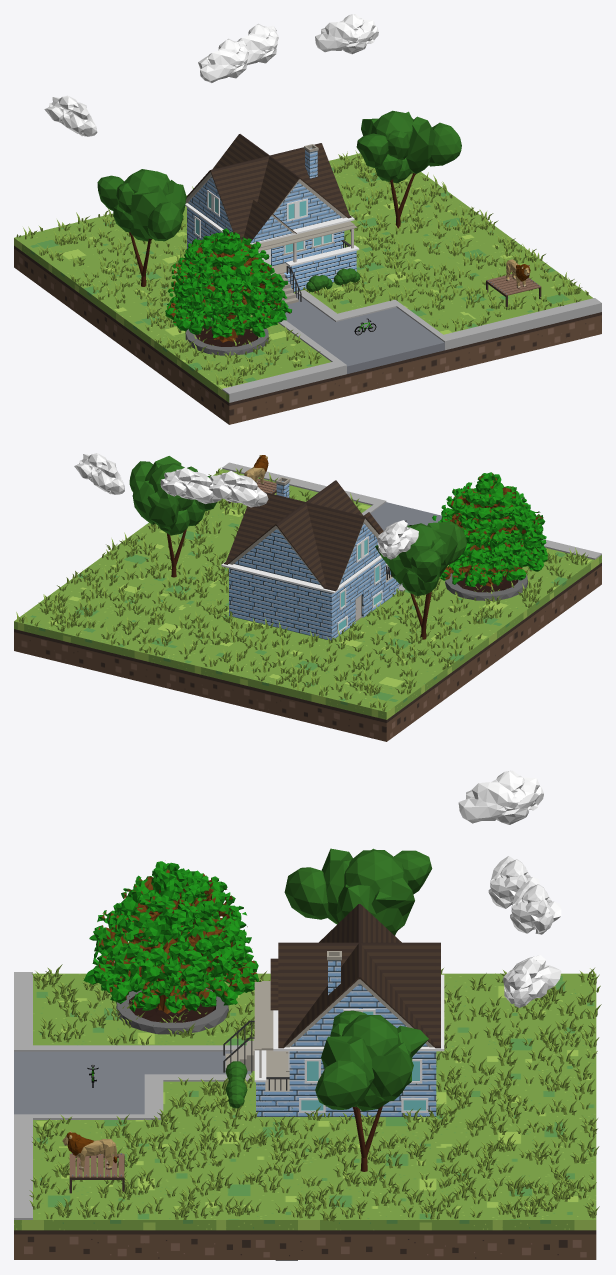
3 renders of one model, top to bottom at view 1: azimuth 30°, elevation 25°; view 2: azimuth 150°, elevation 25°; view 3: azimuth 270°, elevation 25°, orthographic. The views are drawn at different scales.
Visible parts, largest first — view 1: Cube.006, Cube.547, Circle.012_Grass_0.192, OBJRANDOM_CEIBA, Cube.007, tree, tree.001, Cube.009; view 2: Cube.006, Cube.547, Circle.012_Grass_0.192, OBJRANDOM_CEIBA, Cube.007, tree.001, tree, ANIMAL_LEON; view 3: Cube.006, Circle.012_Grass_0.192, Cube.547, OBJRANDOM_CEIBA, tree, Cube.007, tree.001, Cube.009, ANIMAL_LEON.
Part boxes in pixels (bbox=[...]): Cube.006: bbox=[14, 153, 601, 424]; Cube.547: bbox=[185, 134, 359, 304]; Circle.012_Grass_0.192: bbox=[16, 150, 588, 386]; OBJRANDOM_CEIBA: bbox=[165, 228, 291, 355]; Cube.007: bbox=[44, 14, 378, 136]; tree: bbox=[356, 110, 461, 228]; tree.001: bbox=[97, 169, 186, 286]; Cube.009: bbox=[486, 274, 541, 306]; Cube.006: bbox=[14, 462, 601, 741]; Cube.547: bbox=[221, 477, 398, 640]; Circle.012_Grass_0.192: bbox=[16, 468, 588, 711]; OBJRANDOM_CEIBA: bbox=[432, 472, 547, 600]; Cube.007: bbox=[74, 453, 418, 559]; tree.001: bbox=[375, 521, 467, 639]; tree: bbox=[129, 456, 216, 577]; ANIMAL_LEON: bbox=[244, 455, 268, 484]; Cube.006: bbox=[14, 972, 596, 1259]; Circle.012_Grass_0.192: bbox=[29, 964, 601, 1221]; Cube.547: bbox=[223, 904, 444, 1116]; OBJRANDOM_CEIBA: bbox=[83, 861, 258, 1034]; tree: bbox=[315, 1010, 428, 1171]; Cube.007: bbox=[458, 770, 561, 1007]; tree.001: bbox=[284, 848, 432, 935]; Cube.009: bbox=[69, 1153, 124, 1193]; ANIMAL_LEON: bbox=[62, 1131, 117, 1169].
Size of the model in its own units: 4071 by 2184 by 4040.
33 materials, 4 textured.
